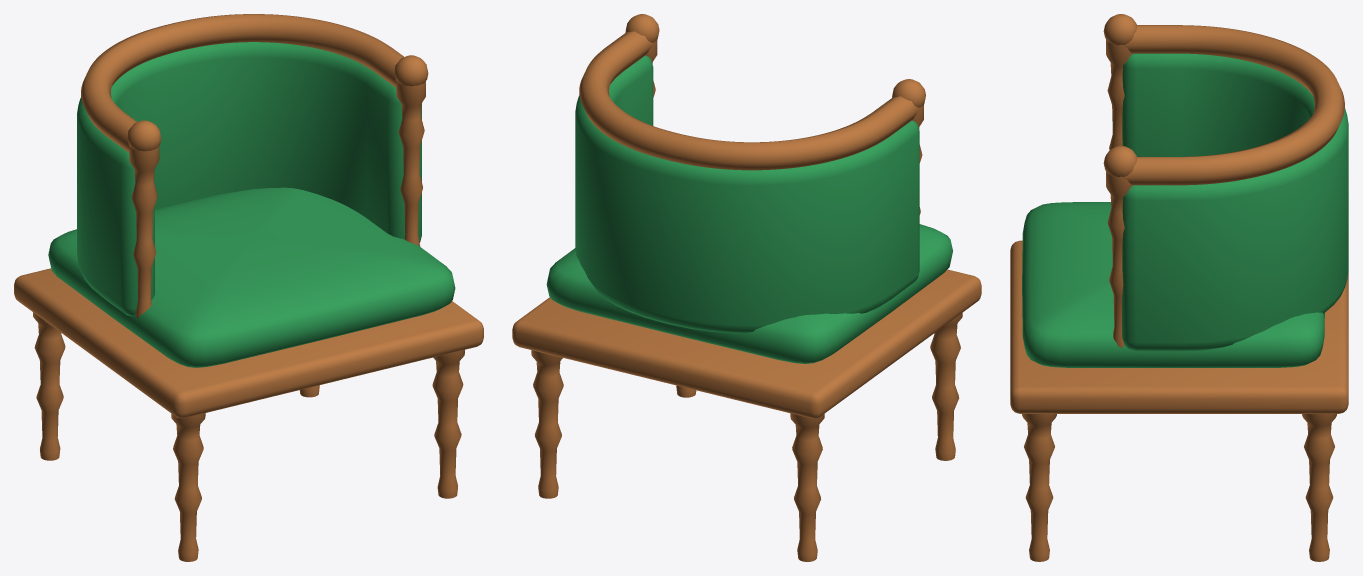
The model's file is cadeira_torneada_verde.glb.
3 renders of one model, left to right at view 1: azimuth 30°, elevation 25°; view 2: azimuth 150°, elevation 25°; view 3: azimuth 270°, elevation 25°, orthographic.
Visible parts, largest first — view 1: cadeira_torneada_verde; view 2: cadeira_torneada_verde; view 3: cadeira_torneada_verde.
Boxes of the visible parts, x1,y1,x2,y2 form: cadeira_torneada_verde: (14, 14, 483, 561); cadeira_torneada_verde: (512, 14, 981, 561); cadeira_torneada_verde: (1010, 14, 1348, 561).
Bounding box in the file's own units: 0.62 × 0.78 × 0.58.
Materials: 1 (1 with a texture image).
